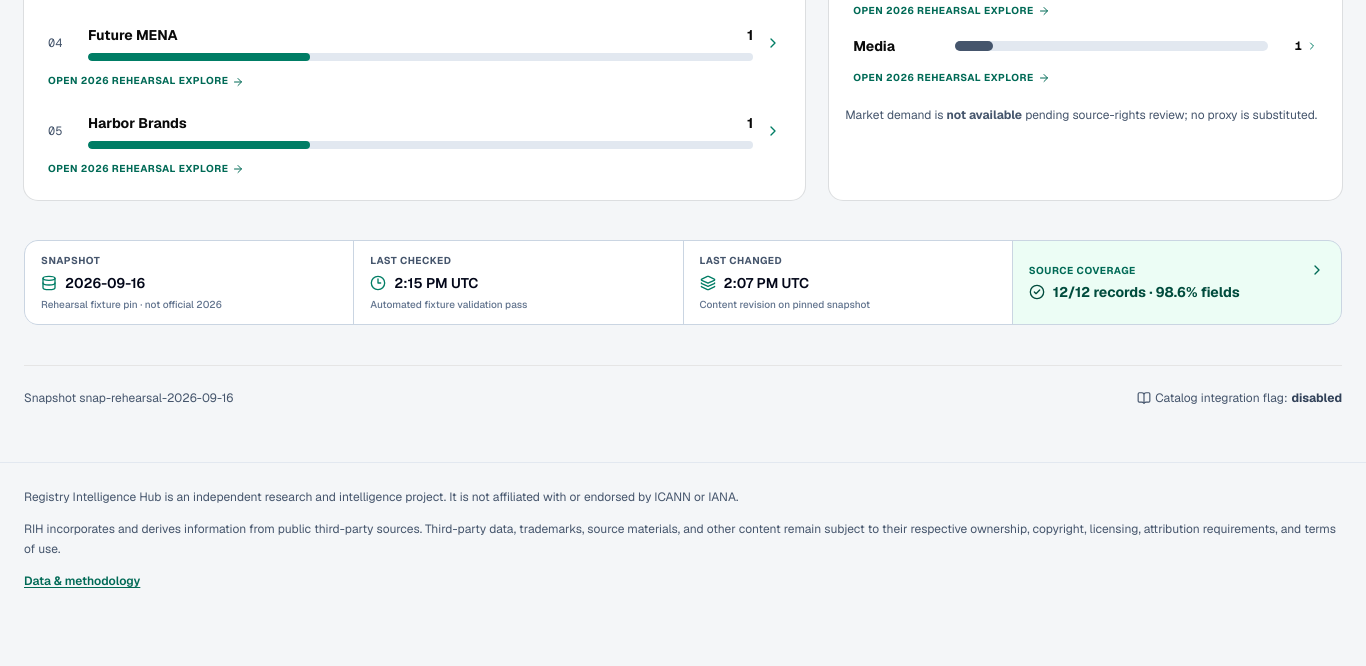
Scenario: Command Center interactions › explains fixture-backed source coverage exceptions
(page scrolled)
Click the button with aria-label "View intelligence for Source coverage" at (1177, 282), box [1013,241,1341,324]
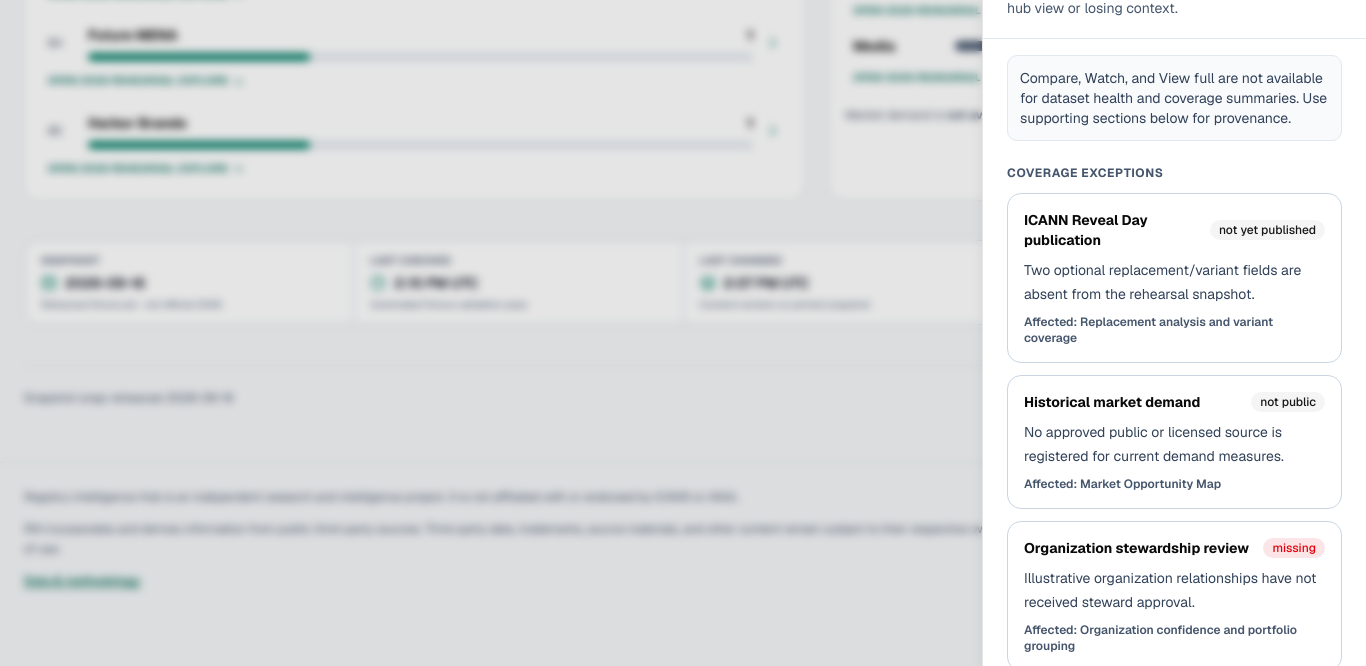
Now the heading "COVERAGE EXCEPTIONS" is shown, box [1007,165,1164,181]
Now the text "not yet published" is shown, box [1210,220,1325,240]
Now the text "not public" is shown, box [1251,392,1325,412]
